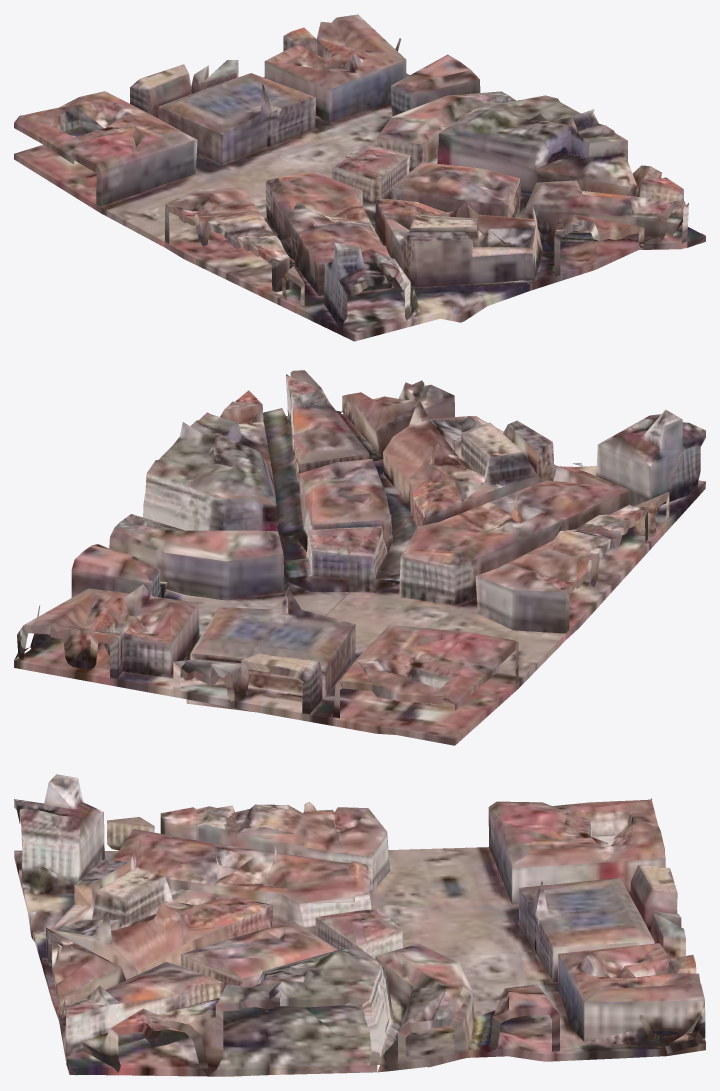
The picture shows the model from 3 angles, top to bottom: view 1: azimuth 30°, elevation 25°; view 2: azimuth 150°, elevation 25°; view 3: azimuth 270°, elevation 25°; orthographic projection. The views are drawn at different scales.
Visible parts, largest first — view 1: Mesh_0; view 2: Mesh_0; view 3: Mesh_0.
Part boxes in pixels (bbox=[...]): Mesh_0: bbox=[14, 14, 705, 341]; Mesh_0: bbox=[14, 370, 705, 745]; Mesh_0: bbox=[14, 774, 705, 1076].
Bounding box in the file's own units: 266 × 60.97 × 330.
Materials: 2 (2 with a texture image).
